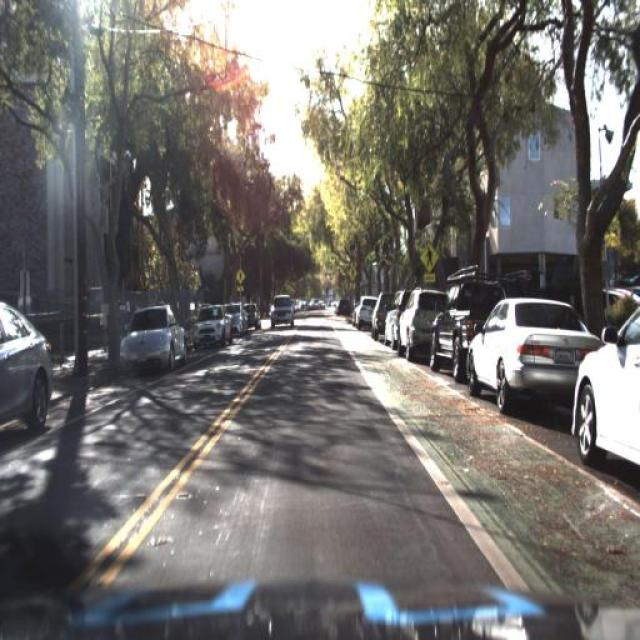car: (463, 292, 601, 411), (570, 302, 640, 474), (427, 269, 514, 381), (0, 300, 54, 442), (115, 298, 189, 374), (397, 285, 442, 365), (190, 302, 228, 357), (383, 281, 408, 347), (368, 285, 393, 347), (268, 290, 298, 331), (350, 294, 375, 332), (228, 298, 250, 340), (268, 298, 293, 330)
